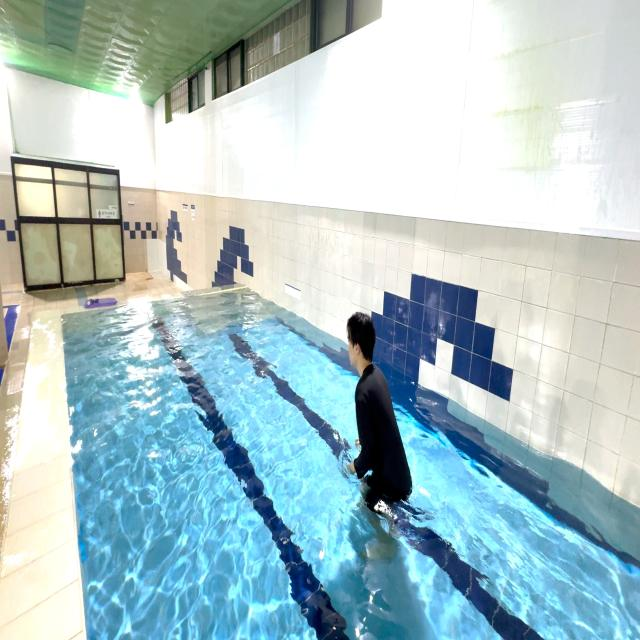Swimming: (344, 308, 413, 527)
